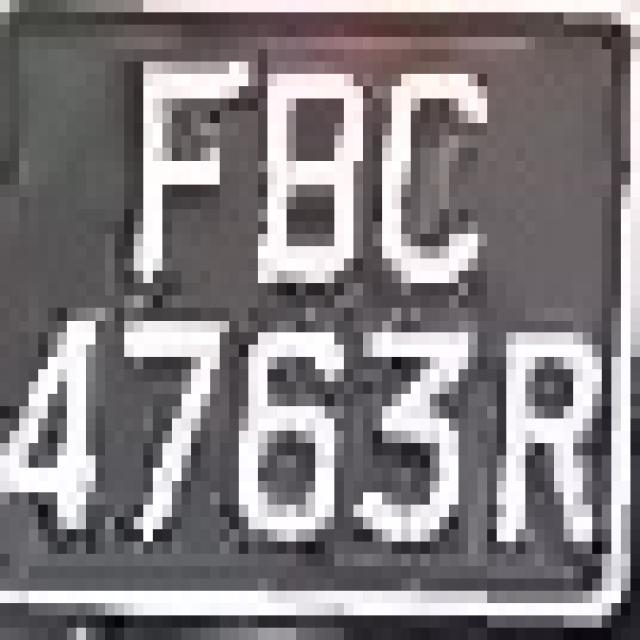3: (334, 271, 478, 591)
4: (19, 258, 124, 616)
6: (210, 308, 344, 566)
7: (105, 283, 220, 591)
B: (248, 61, 382, 308)
C: (382, 49, 487, 296)
F: (124, 12, 239, 320)
R: (478, 296, 602, 578)
